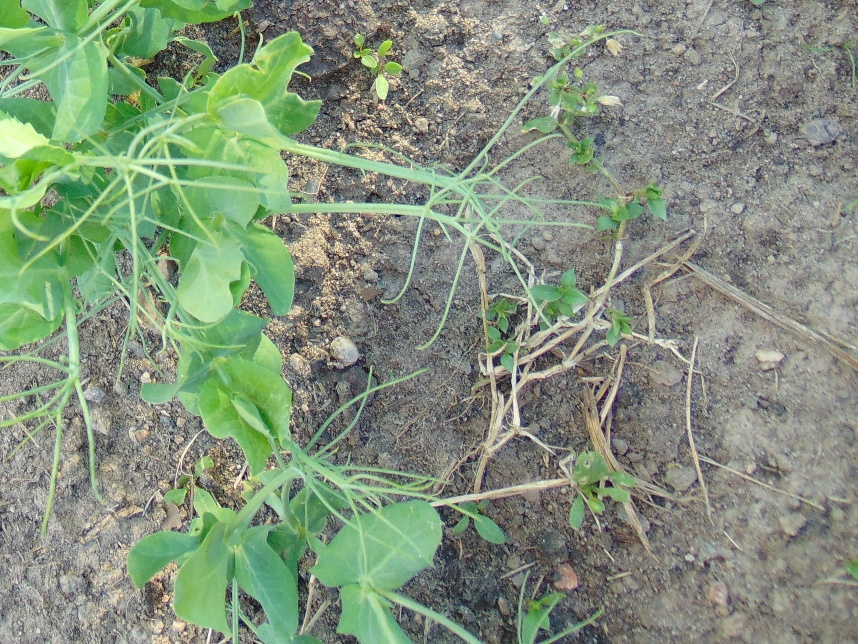crop: (1, 1, 338, 480), (138, 414, 443, 644), (225, 117, 492, 270)
weed: (521, 60, 593, 163), (565, 445, 636, 527), (528, 267, 589, 326), (595, 185, 672, 229), (354, 32, 402, 100), (162, 460, 215, 510), (452, 498, 507, 543), (545, 27, 608, 56), (478, 297, 524, 332), (480, 331, 526, 366), (603, 307, 636, 345)
